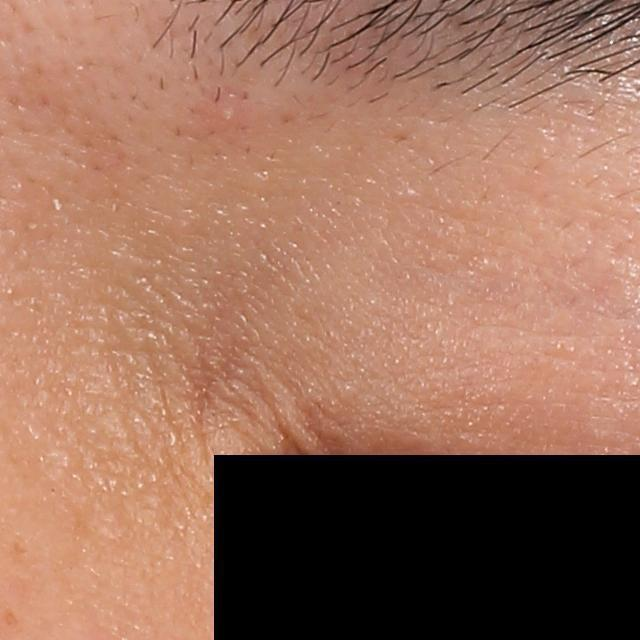pustule: (214, 105, 241, 127)
